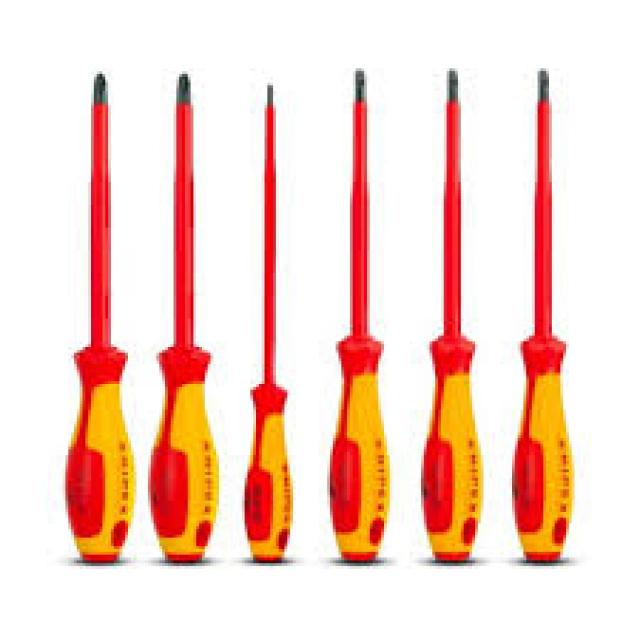screw driver: (404, 47, 504, 563), (45, 56, 143, 556), (147, 49, 235, 574), (316, 61, 396, 577), (511, 61, 589, 560), (246, 70, 312, 564)
